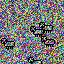sheep: (40, 35, 56, 48), (39, 22, 53, 34), (1, 38, 15, 50), (30, 26, 45, 37), (27, 56, 43, 64)
